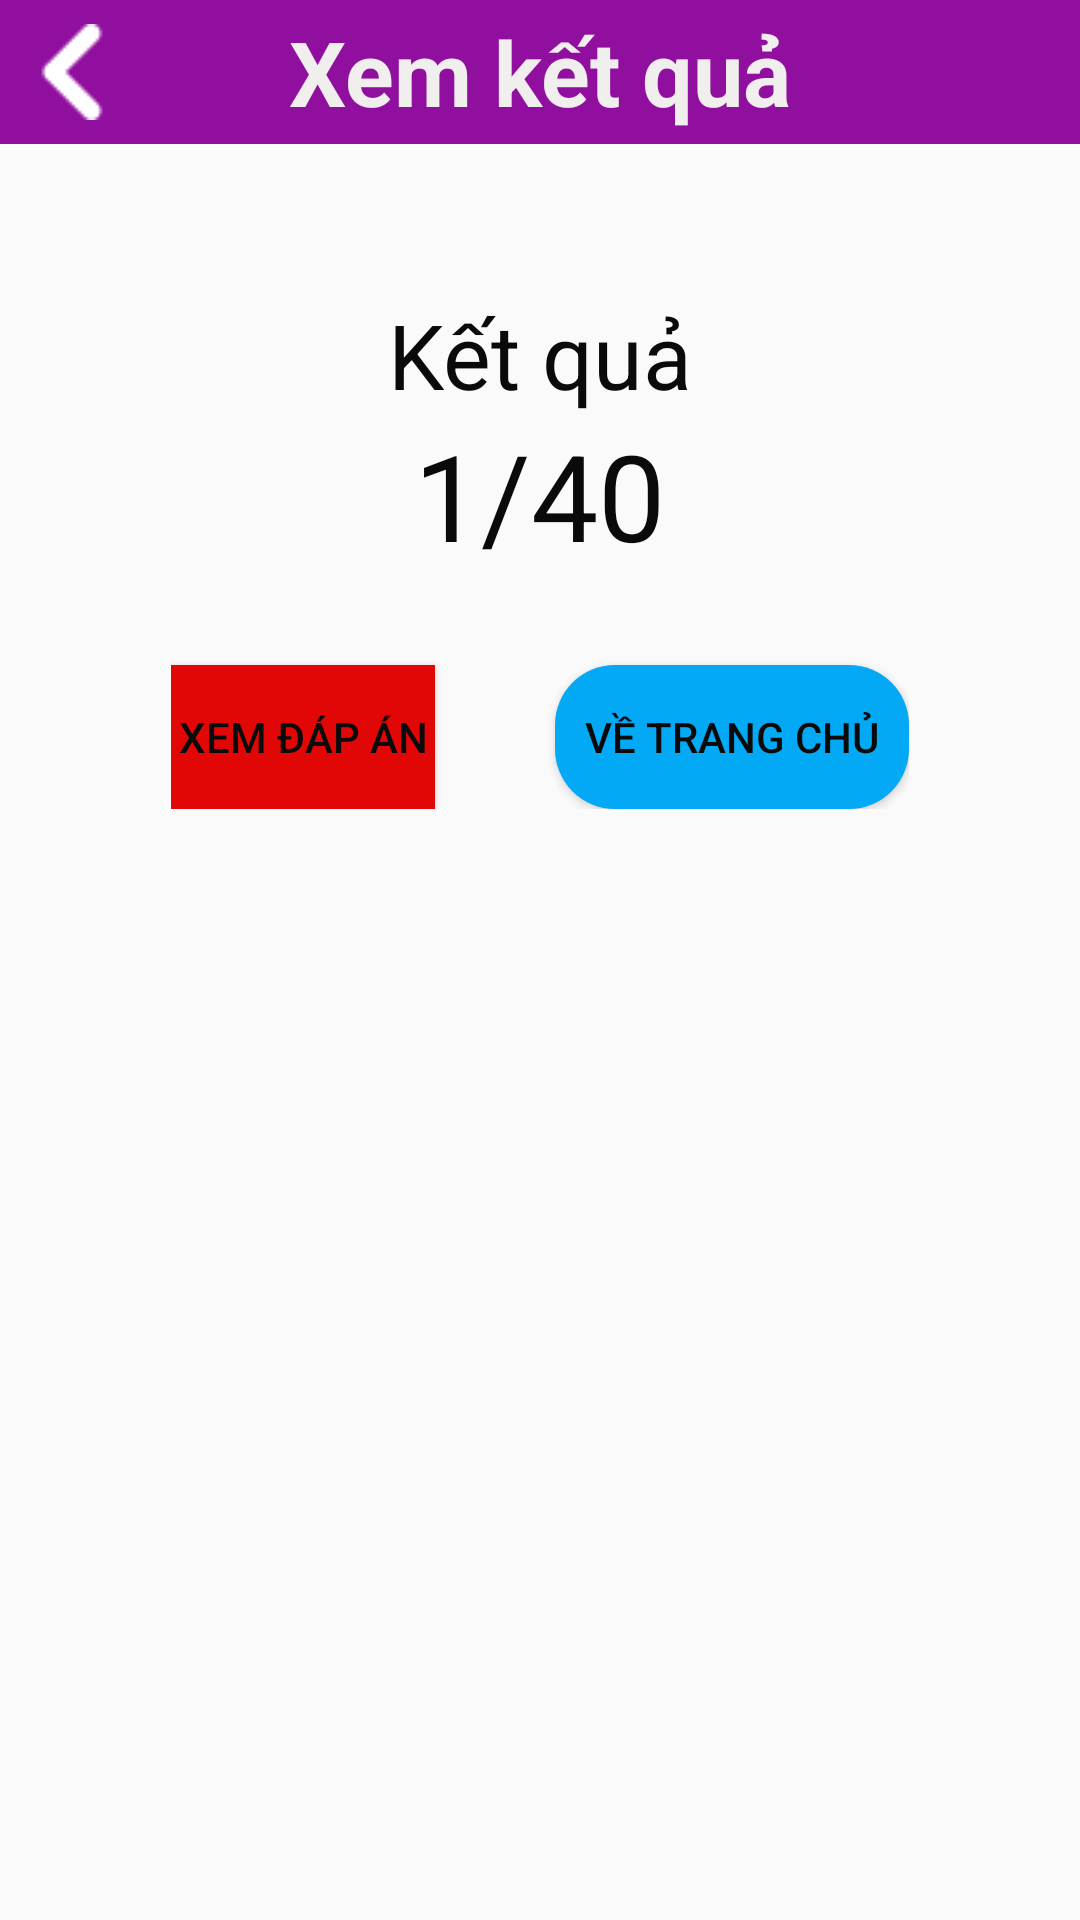

Locate icon controls on the screen. Image size 1080w x 1920h, boxes as (x1,y1,x2,y2).
backk trang: (41,24,103,120)
